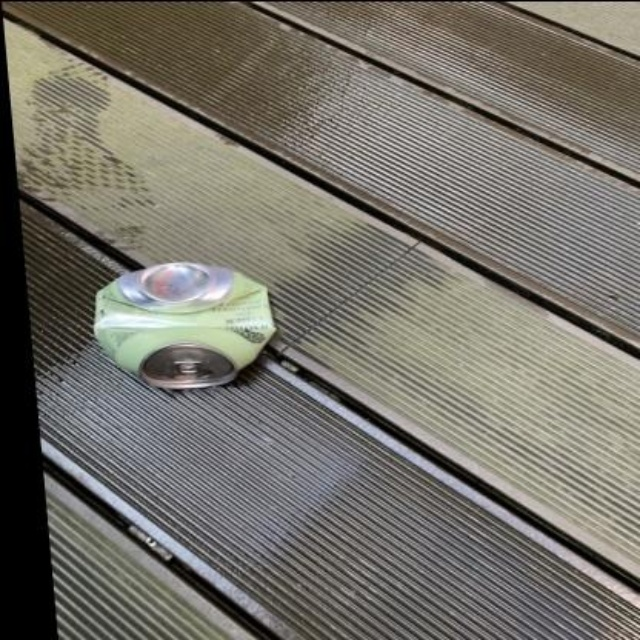trash: (94, 262, 274, 388)
